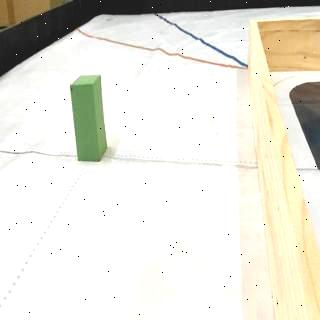greenbox: (70, 76, 107, 161)
